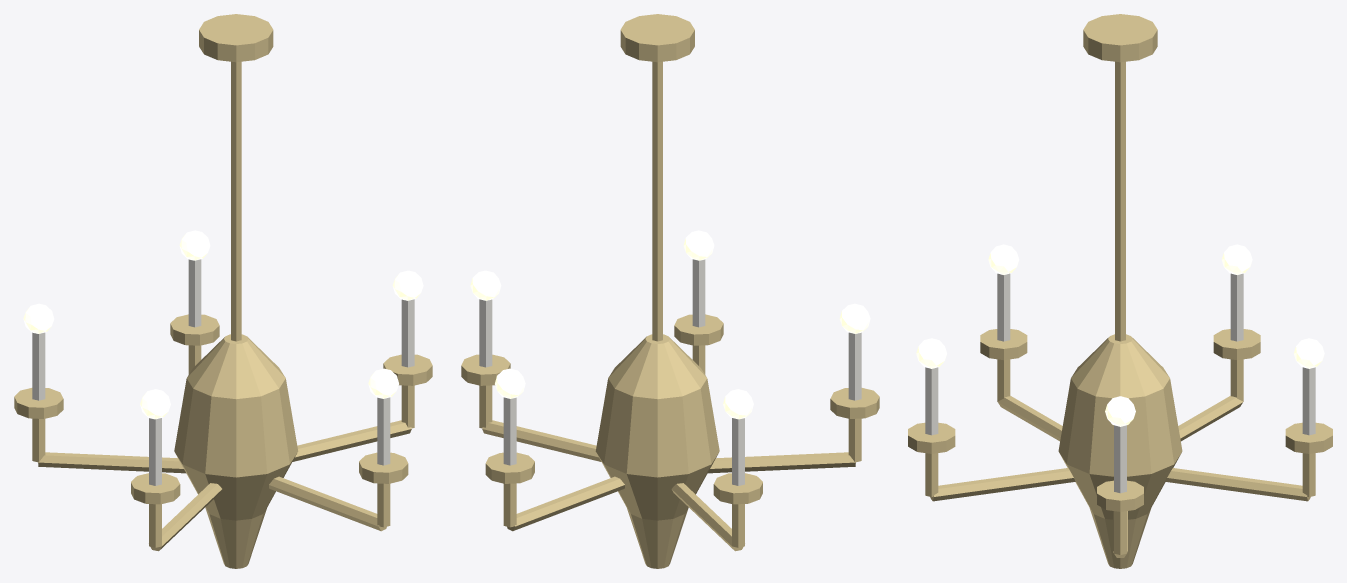
Rendered from chandelier_s.glb.
3 renders of one model, left to right at view 1: azimuth 30°, elevation 25°; view 2: azimuth 150°, elevation 25°; view 3: azimuth 270°, elevation 25°, orthographic.
Parts seen in each view (by area): view 1: chandelier_s_brass, chandelier_s_linen, chandelier_s_lamp_glass; view 2: chandelier_s_brass, chandelier_s_linen, chandelier_s_lamp_glass; view 3: chandelier_s_brass, chandelier_s_linen, chandelier_s_lamp_glass.
Part boxes in pixels (<box>): chandelier_s_brass: <box>14,14,432,568</box>; chandelier_s_linen: <box>32,259,414,485</box>; chandelier_s_lamp_glass: <box>23,230,423,419</box>; chandelier_s_brass: <box>461,14,879,568</box>; chandelier_s_linen: <box>479,259,861,485</box>; chandelier_s_lamp_glass: <box>470,230,870,419</box>; chandelier_s_brass: <box>908,14,1332,568</box>; chandelier_s_linen: <box>925,273,1315,493</box>; chandelier_s_lamp_glass: <box>916,244,1324,426</box>.
Size of the model in its own units: 0.6589 by 0.95 by 0.6848.
